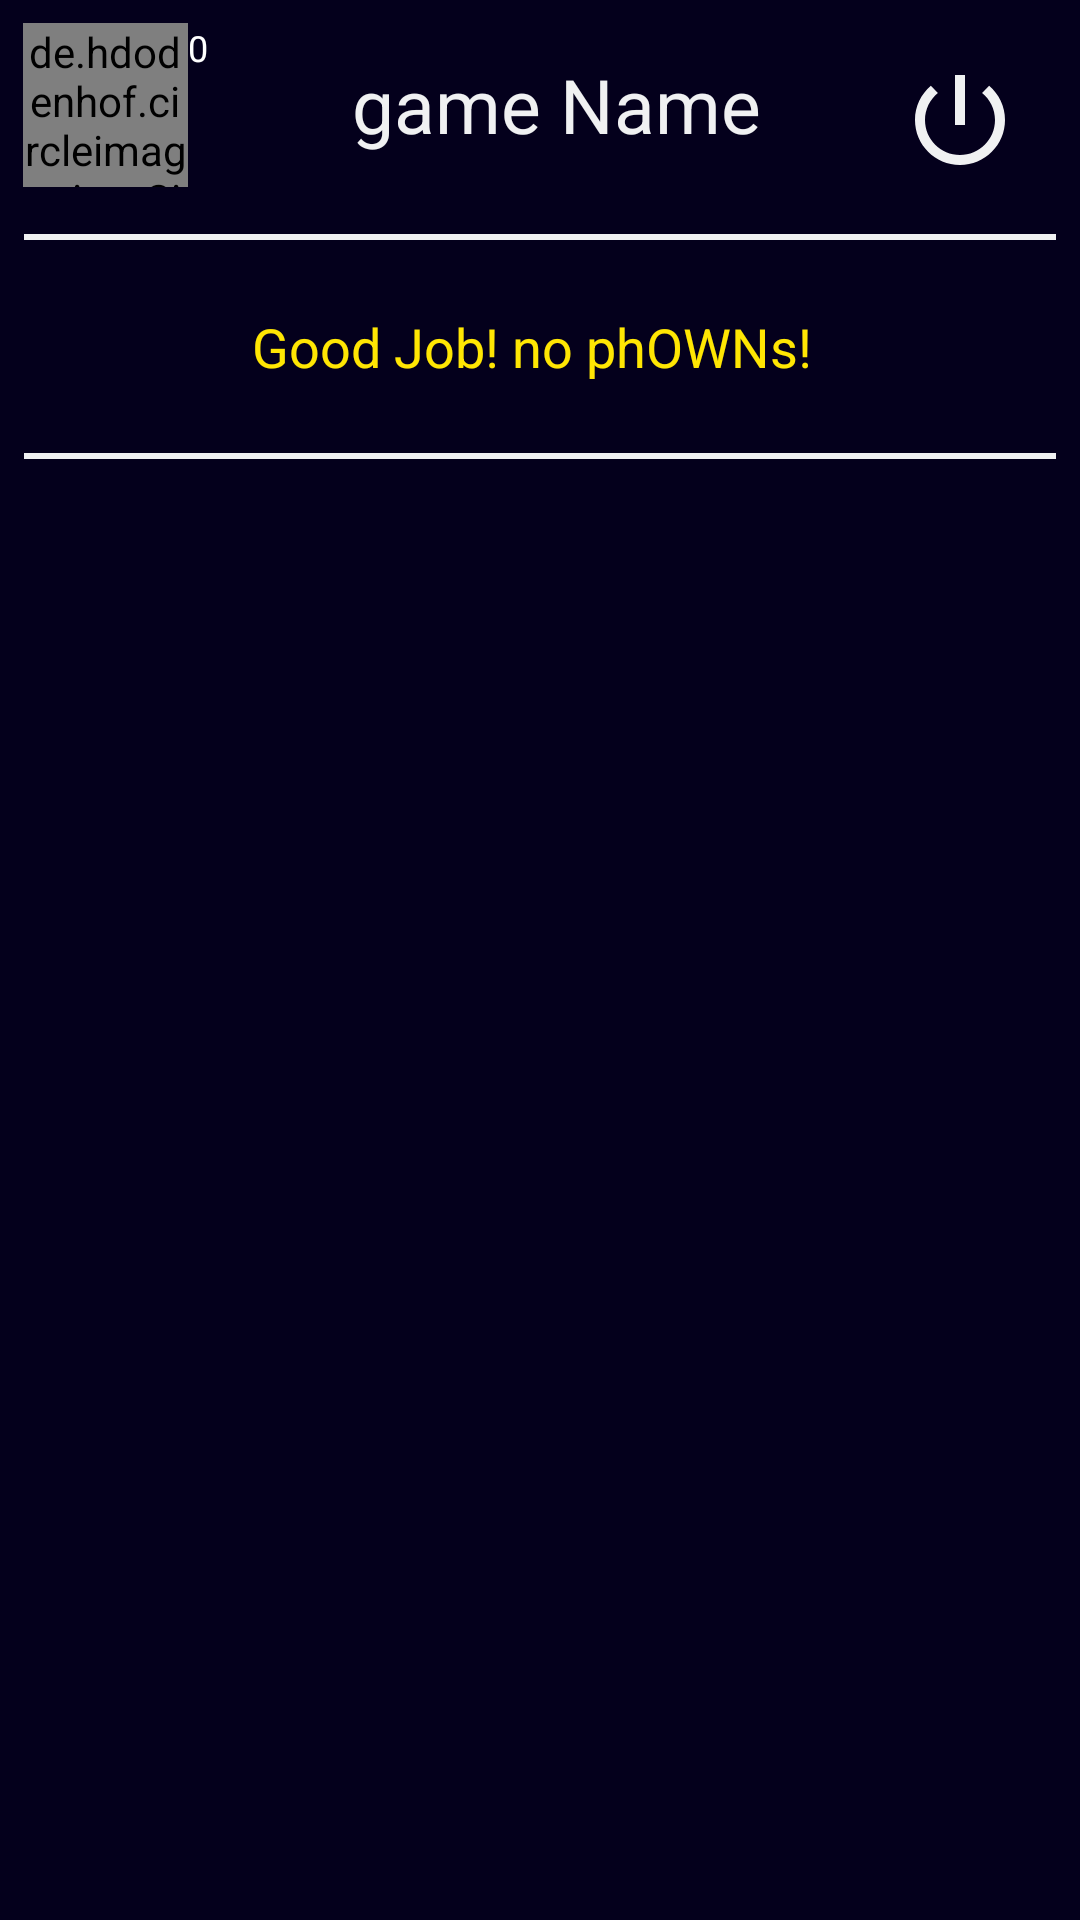

Where icons sit on this 1080 x 1920 app screen, as (x1, y1, x2, y2):
power settings: (915, 75, 1005, 165)
